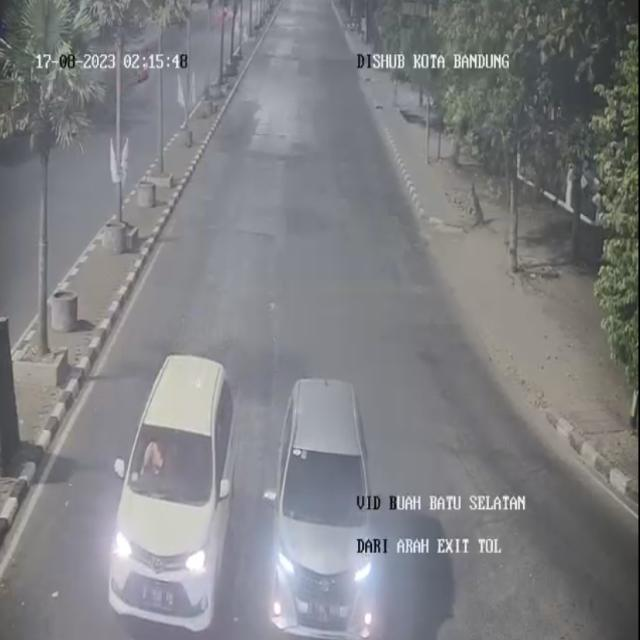cars: (109, 346, 248, 616), (268, 359, 380, 640)
